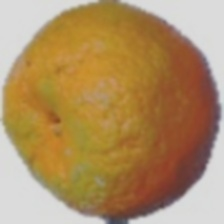tangerine: (31, 35, 208, 189)
